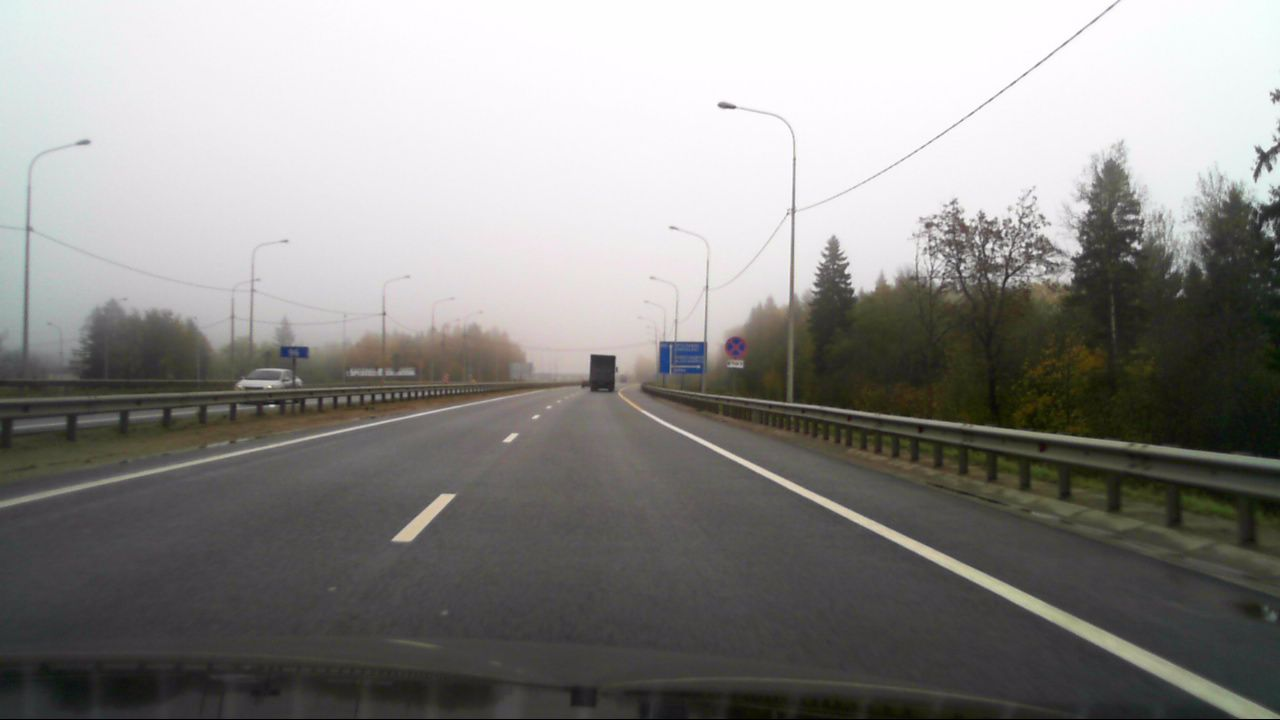No Parking: (725, 335, 747, 358)
